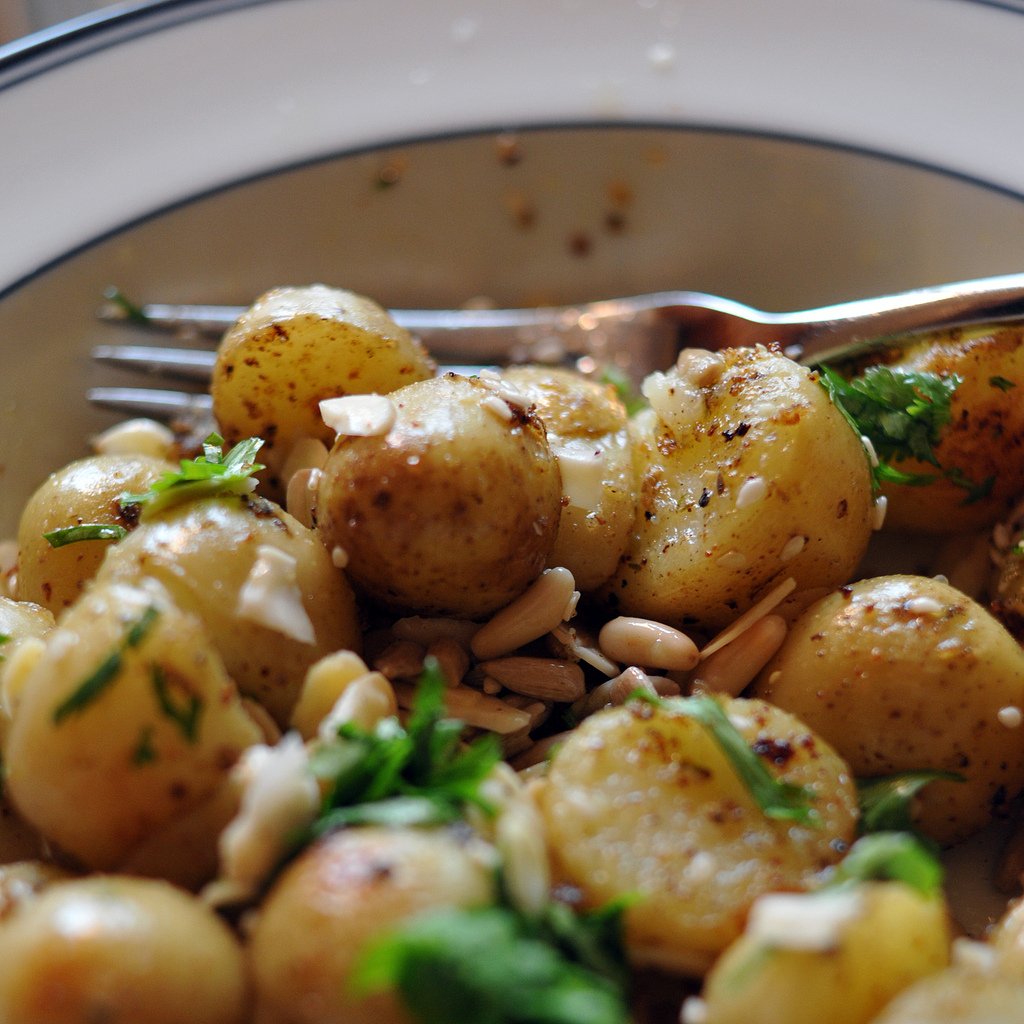boiled potatoes: (532, 679, 871, 966), (610, 337, 890, 609), (776, 576, 1024, 813), (320, 382, 571, 613), (218, 287, 452, 484)
